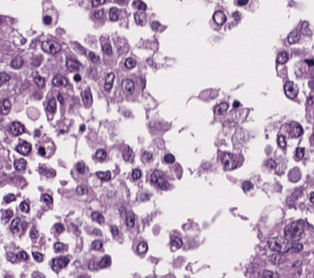nucleus: (150, 170, 169, 189), (268, 237, 289, 252), (41, 40, 60, 53), (10, 218, 26, 233), (222, 153, 236, 169), (121, 78, 134, 94), (10, 121, 24, 135), (16, 141, 31, 154), (104, 72, 114, 90), (52, 74, 67, 86), (122, 145, 133, 161), (39, 165, 55, 176), (66, 59, 80, 71), (214, 102, 228, 114), (82, 88, 91, 106), (46, 98, 56, 114), (134, 11, 146, 24), (213, 11, 225, 24), (91, 211, 104, 223), (276, 51, 288, 63), (11, 56, 23, 68), (14, 159, 26, 171), (1, 99, 10, 114), (33, 75, 44, 87), (133, 1, 146, 11), (109, 7, 119, 20), (102, 41, 112, 54), (96, 171, 110, 180), (124, 57, 135, 68), (95, 149, 106, 160), (2, 209, 12, 221), (126, 212, 134, 227), (277, 135, 286, 148), (88, 52, 99, 62), (19, 201, 29, 212), (171, 237, 182, 247), (91, 240, 102, 250), (0, 72, 9, 84), (142, 151, 152, 161), (164, 153, 174, 163), (131, 169, 141, 179), (242, 181, 252, 191), (42, 194, 52, 204), (4, 194, 15, 203), (76, 161, 84, 173), (266, 159, 276, 168), (54, 223, 64, 232), (76, 186, 87, 194), (91, 0, 105, 6), (111, 225, 118, 236), (94, 10, 103, 18), (43, 15, 51, 24), (30, 228, 37, 238), (38, 146, 45, 155), (235, 0, 247, 5), (92, 229, 100, 235), (152, 22, 158, 29), (74, 74, 80, 81), (57, 94, 62, 102), (233, 101, 239, 106), (80, 125, 84, 131)
